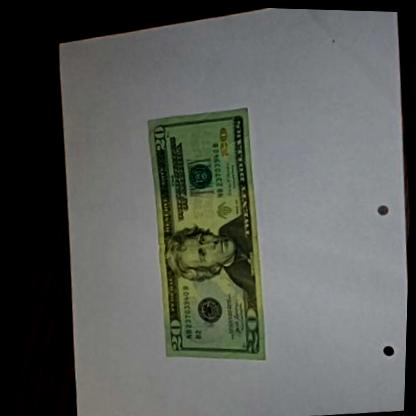twenty-front: (141, 100, 275, 367)
